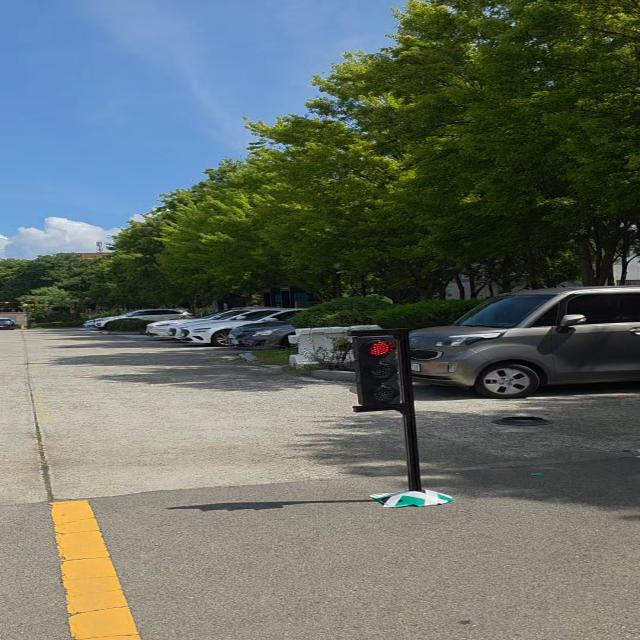red: (349, 334, 412, 413)
